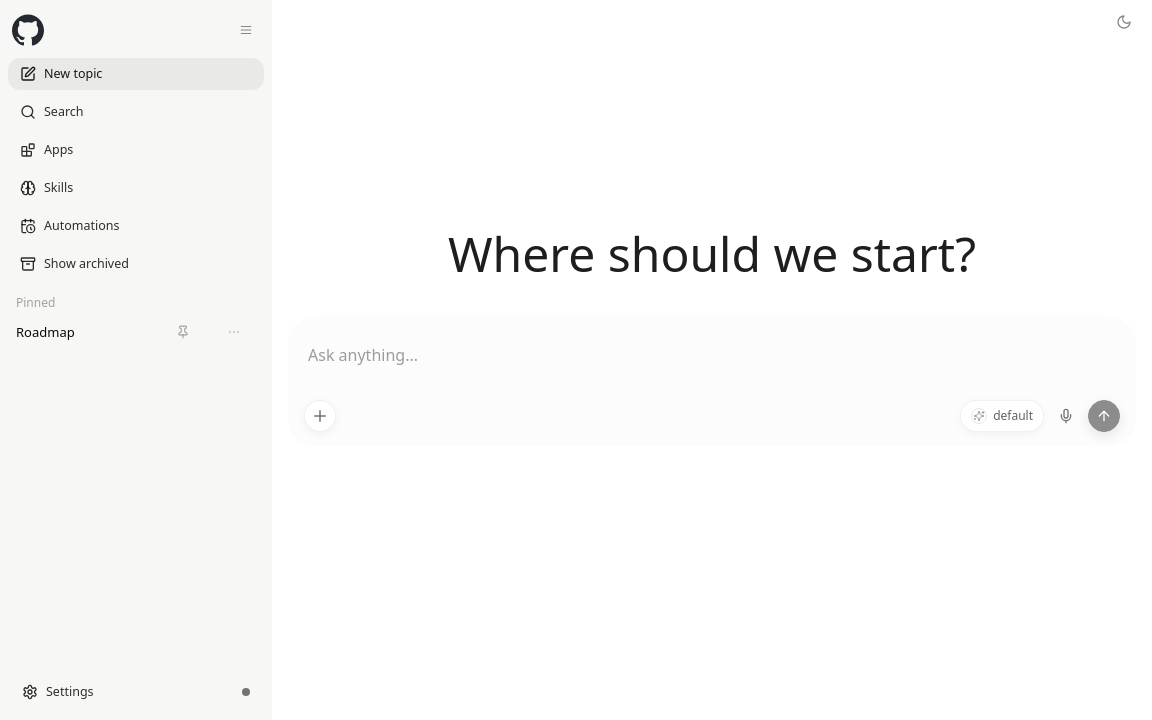
it: App layout › applies persisted sidebar workspace state from the gateway
The width and height of the screenshot is (1152, 720).
Expected: the text "Pinned" is shown, [16,294,55,311]
Expected: the button "Roadmap" is shown, [16,316,190,348]
Click the button "Show archived".
click(136, 264)  # box [8,248,264,280]
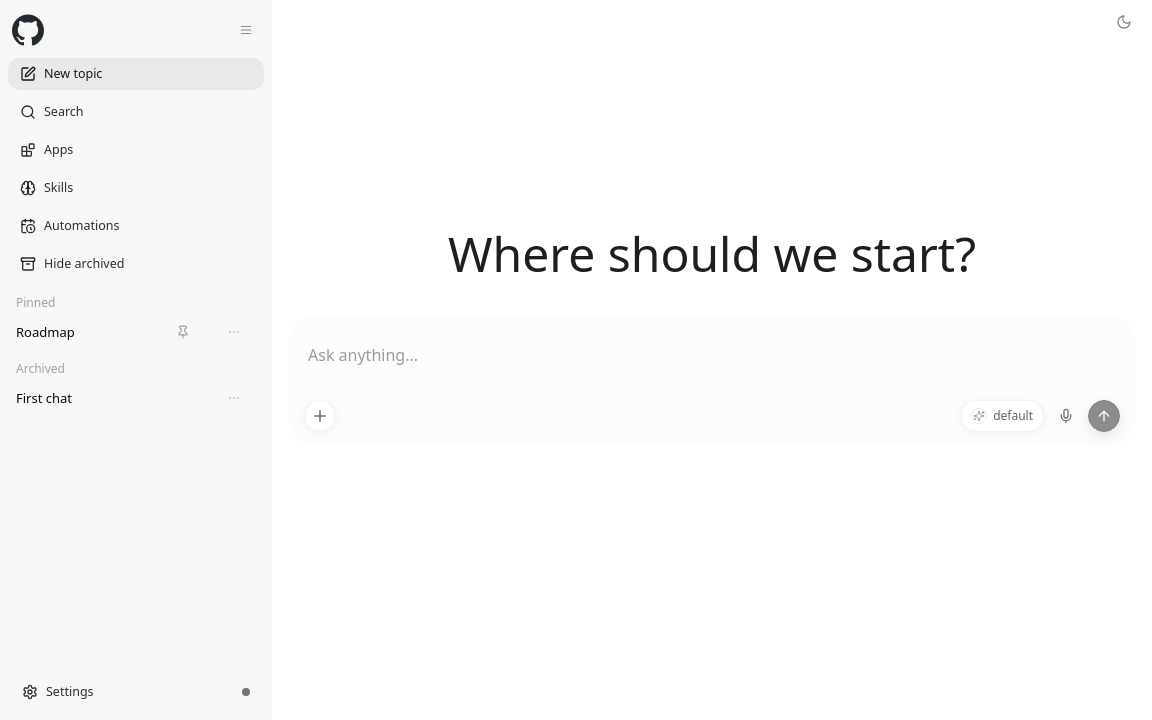
Result: the text "Archived" is shown at [16,360,65,377]
Result: the button "First chat" is shown at [16,382,190,414]
